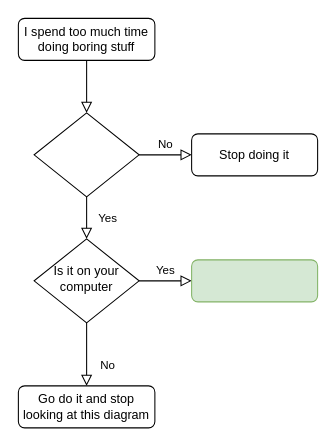
The diagram is 336 pixels wide and 446 high, and some of its shapes have lost their labels. Each missing label, with the box of its shape:
Does it need to be done: (33, 112, 139, 197)
Use Python!: (191, 259, 318, 302)
